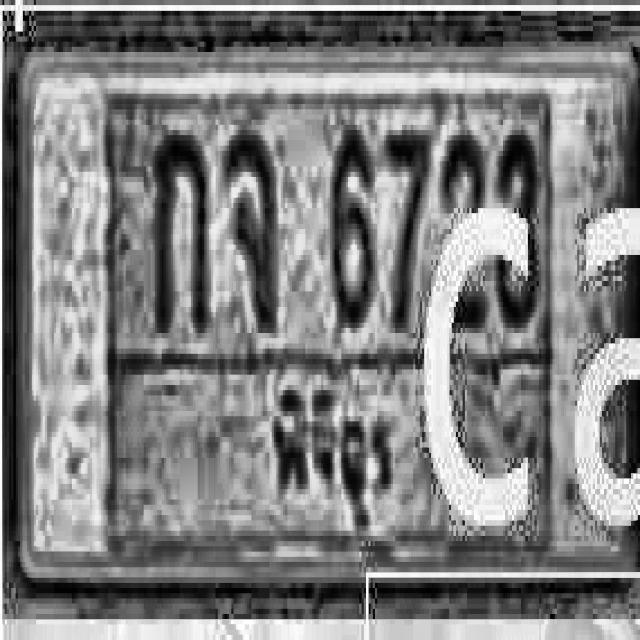license-plate: (13, 31, 640, 604)
